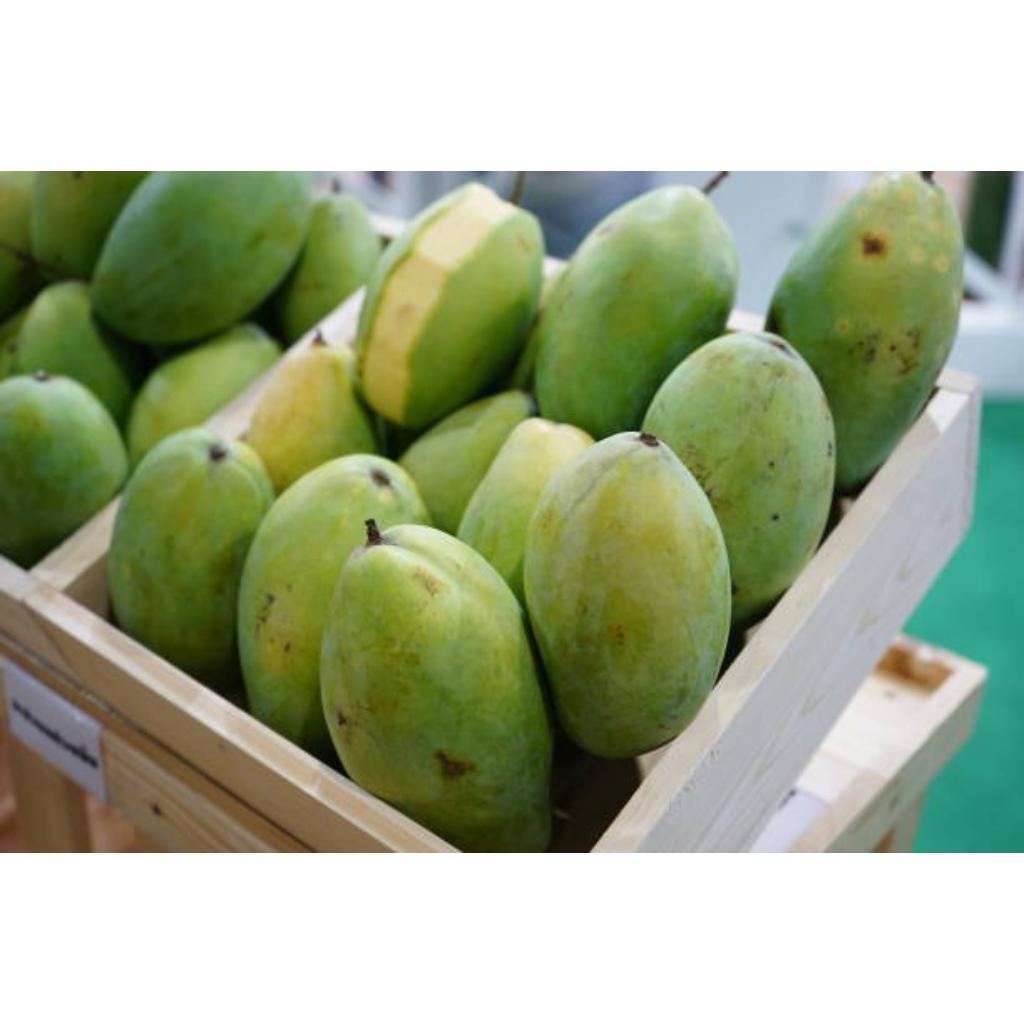mango: (320, 527, 552, 852), (524, 433, 732, 758), (766, 173, 962, 492), (238, 455, 430, 761), (642, 333, 836, 624), (534, 187, 734, 438), (356, 183, 542, 428), (108, 427, 274, 688), (92, 171, 310, 344), (458, 417, 594, 604), (0, 373, 128, 566), (126, 323, 280, 464), (246, 333, 378, 492), (0, 283, 140, 422), (400, 391, 536, 534), (276, 197, 380, 342)
